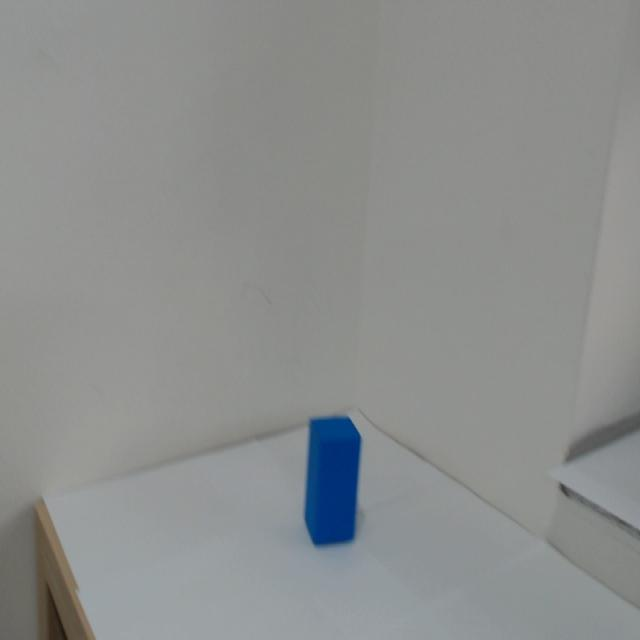cube: (271, 400, 354, 547)
